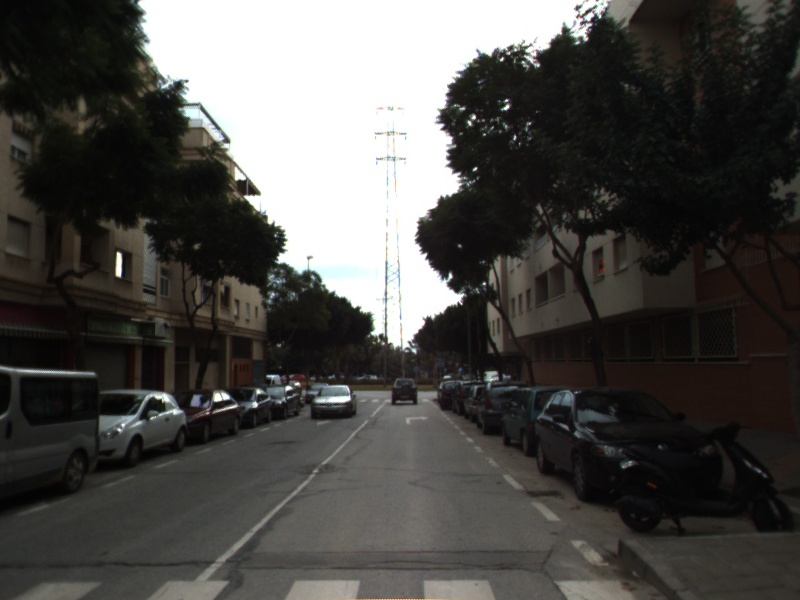RIGHT: (403, 414, 431, 426)
